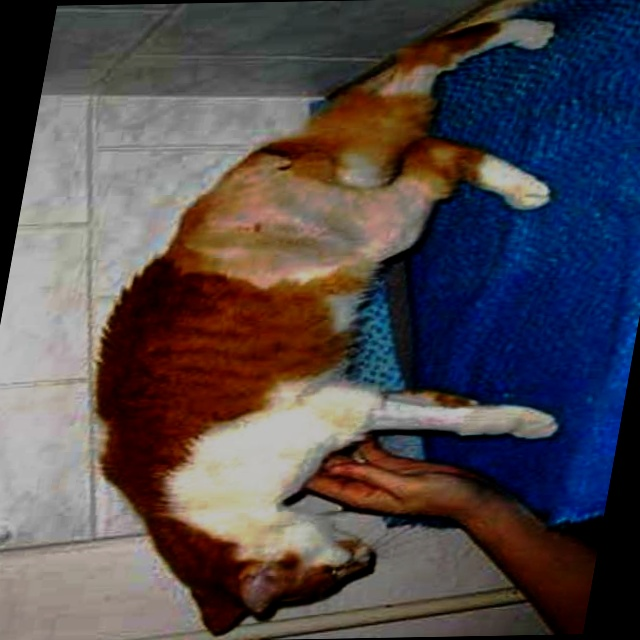hairloss: (189, 394, 414, 549), (177, 178, 430, 280)
